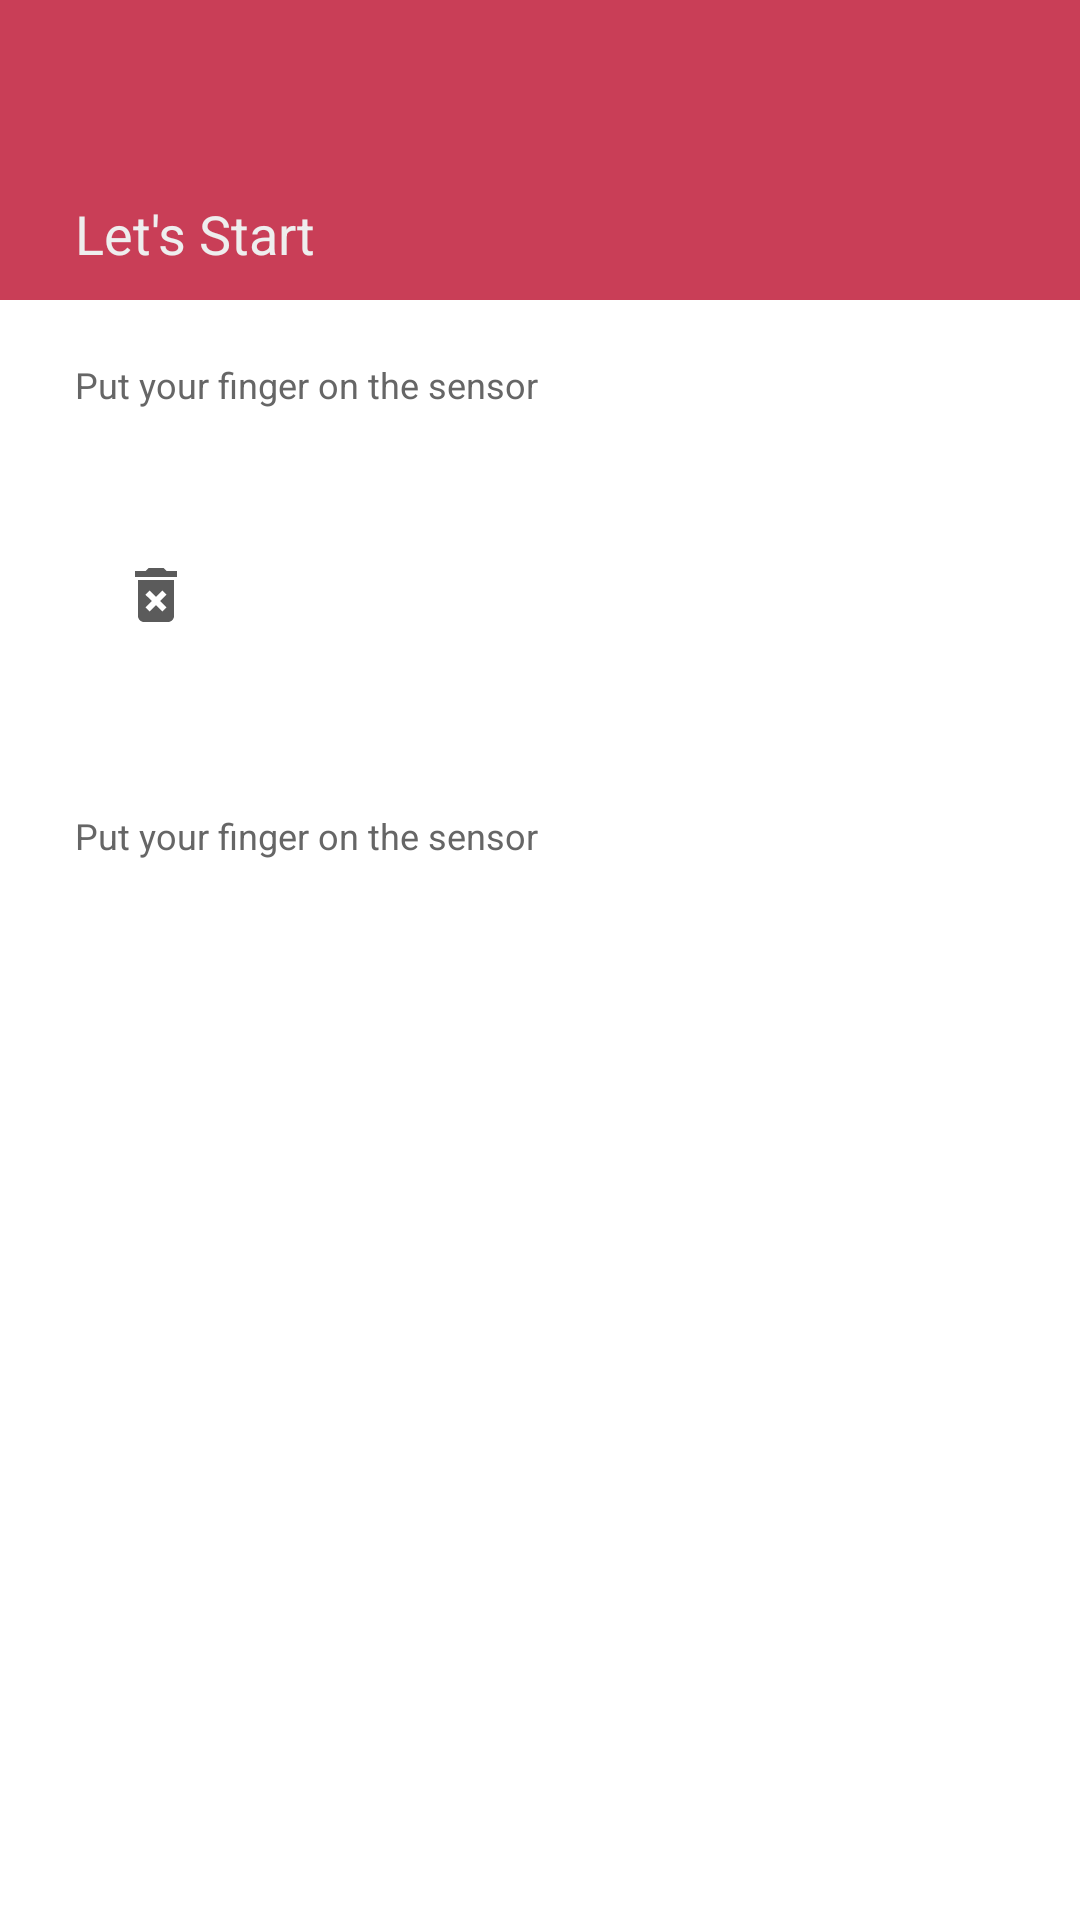

Icons on this 1080px×1920px Android screen, each with its box as (x1, y1, x2, y2):
delete: (135, 568, 177, 622)
